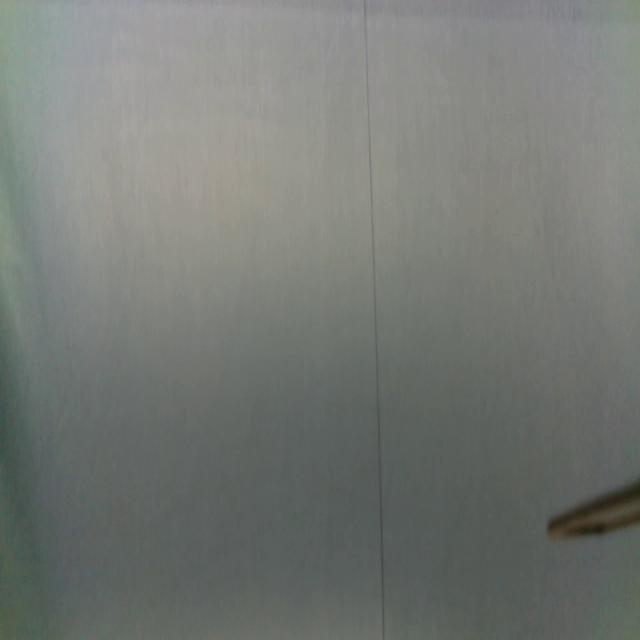crease: (362, 0, 387, 639)
